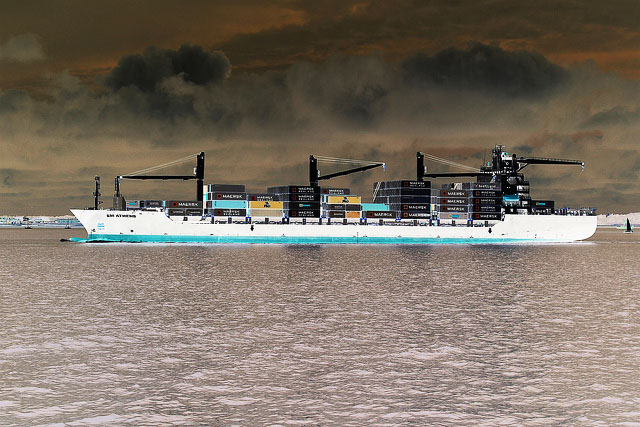container_ship: (66, 141, 601, 243)
